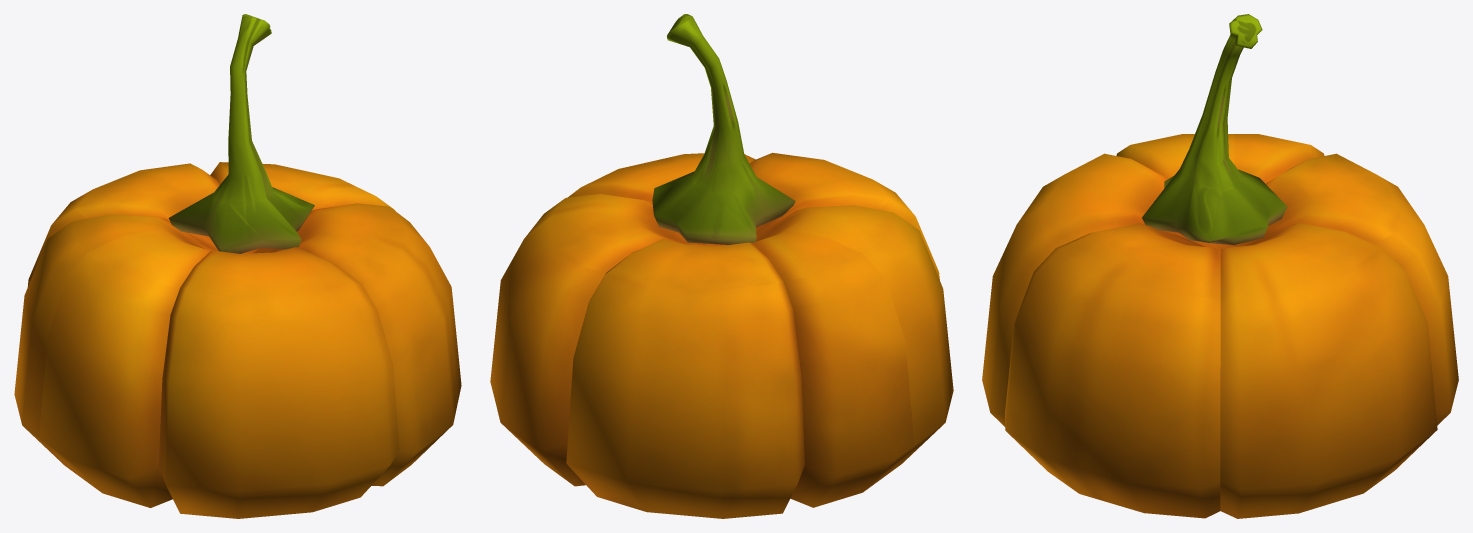
The model's file is Pumpkin_A.fbx.
3 views of the same model, side by side, from view 1: azimuth 30°, elevation 25°; view 2: azimuth 150°, elevation 25°; view 3: azimuth 270°, elevation 25° (orthographic). The views are drawn at different scales.
Parts seen in each view (by area): view 1: U_Pumpkin_A; view 2: U_Pumpkin_A; view 3: U_Pumpkin_A.
Boxes of the visible parts, box(x1,y1,x2,y2) form: U_Pumpkin_A: box(14, 14, 461, 518); U_Pumpkin_A: box(490, 14, 953, 518); U_Pumpkin_A: box(982, 14, 1458, 518).
Size of the model in its own units: 88.1 by 91.93 by 89.43.
1 material, 1 textured.
